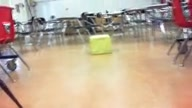cube: (89, 35, 112, 54)
